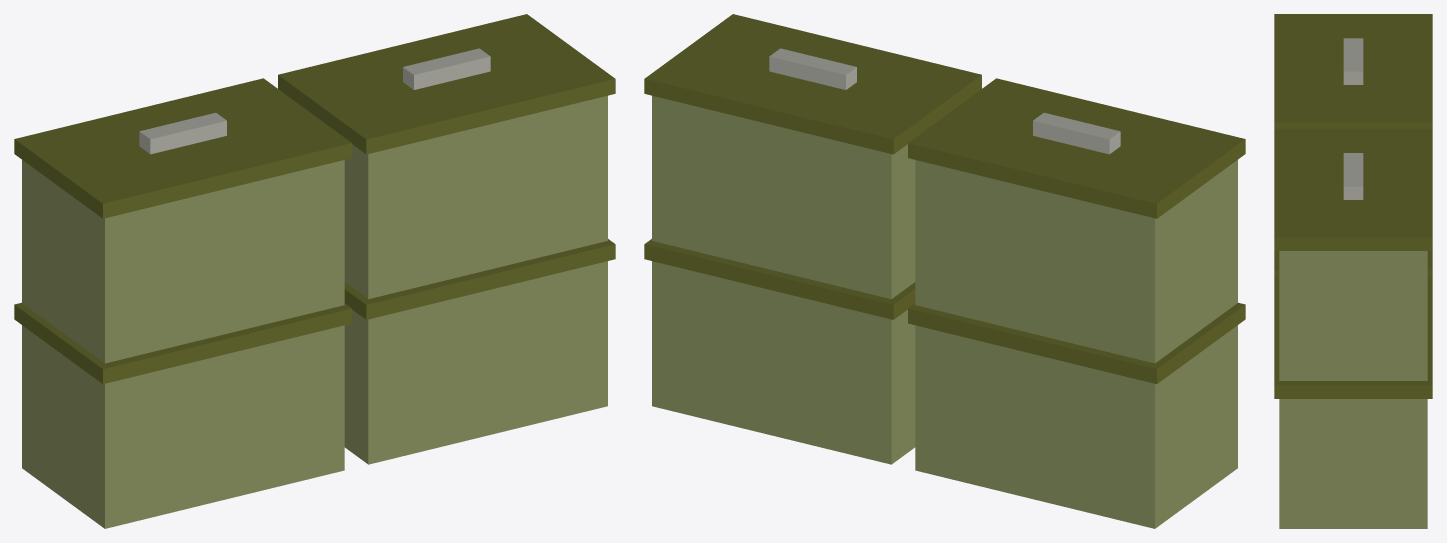
Rendered from SM_CajasMunicion_v2_Pila4_LOD0.fbx.
3 views of the same model, side by side, from view 1: azimuth 30°, elevation 25°; view 2: azimuth 150°, elevation 25°; view 3: azimuth 270°, elevation 25° (orthographic). The views are drawn at different scales.
Visible parts, largest first — view 1: SM_farp_betera_v22_LOD0; view 2: SM_farp_betera_v22_LOD0; view 3: SM_farp_betera_v22_LOD0.
Part boxes in pixels (x1,y1,x2,y2): SM_farp_betera_v22_LOD0: (14, 14, 615, 528); SM_farp_betera_v22_LOD0: (644, 14, 1245, 528); SM_farp_betera_v22_LOD0: (1274, 14, 1432, 528).
Size of the model in its own units: 1.07 by 0.685 by 0.32.
